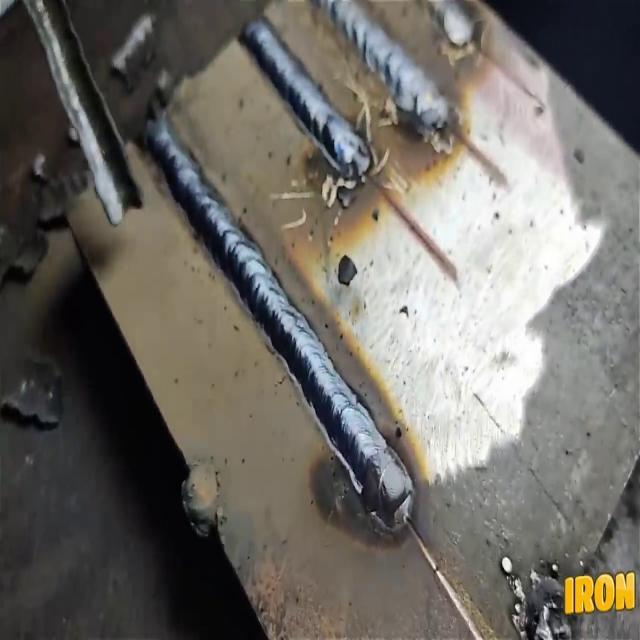Good Weld: (170, 154, 322, 434), (245, 26, 359, 156), (332, 14, 416, 86)
